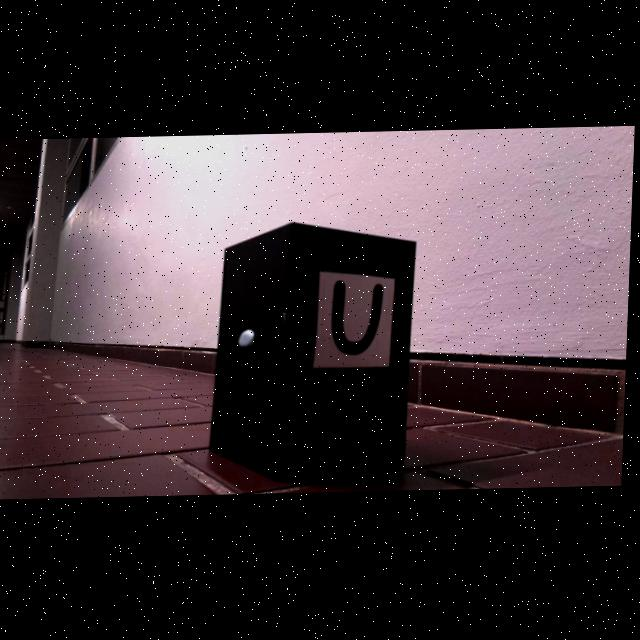U: (334, 283, 387, 359)
